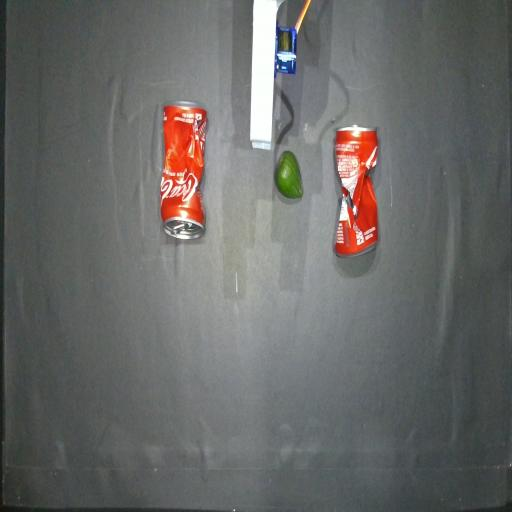higo: (275, 151, 303, 199)
lata_defectuoso: (161, 102, 207, 239), (334, 126, 378, 256)
